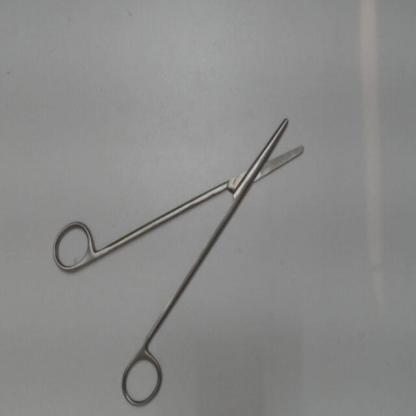9 Metzenbaum Scissors: (51, 111, 308, 412)
